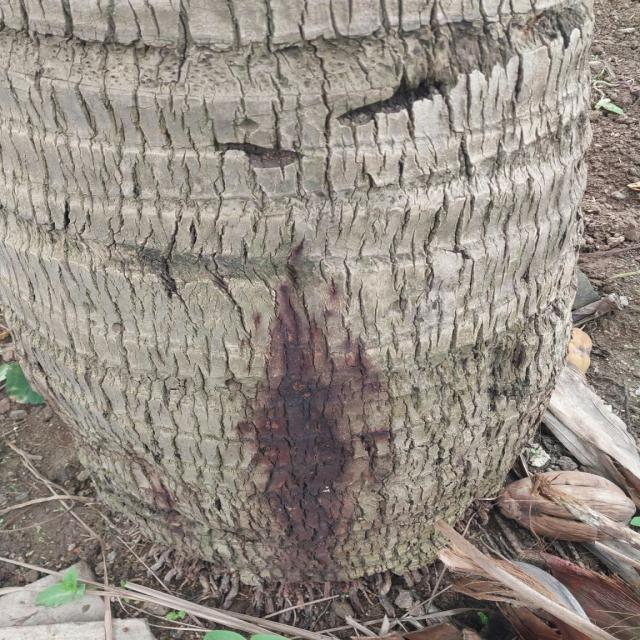stembleeding: (168, 231, 452, 594)
